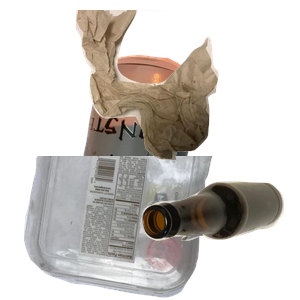glass: (140, 179, 300, 300)
metal: (73, 52, 263, 232)
plastic: (21, 156, 226, 300)
trash: (73, 10, 300, 163)
